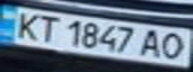1: (60, 17, 84, 47)
4: (96, 21, 121, 53)
7: (115, 24, 139, 55)
8: (78, 20, 103, 50)
A: (136, 27, 166, 58)
K: (6, 9, 45, 40)
O: (157, 30, 187, 61)
T: (33, 12, 63, 43)
